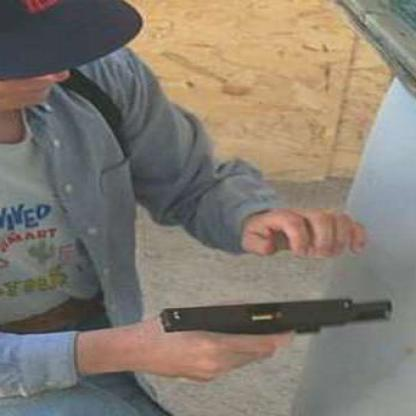gun: (160, 296, 393, 333)
